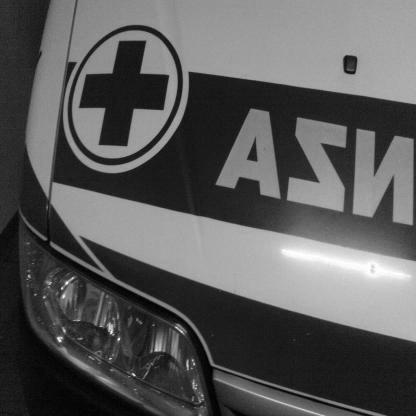ambulance: (15, 5, 416, 416)
